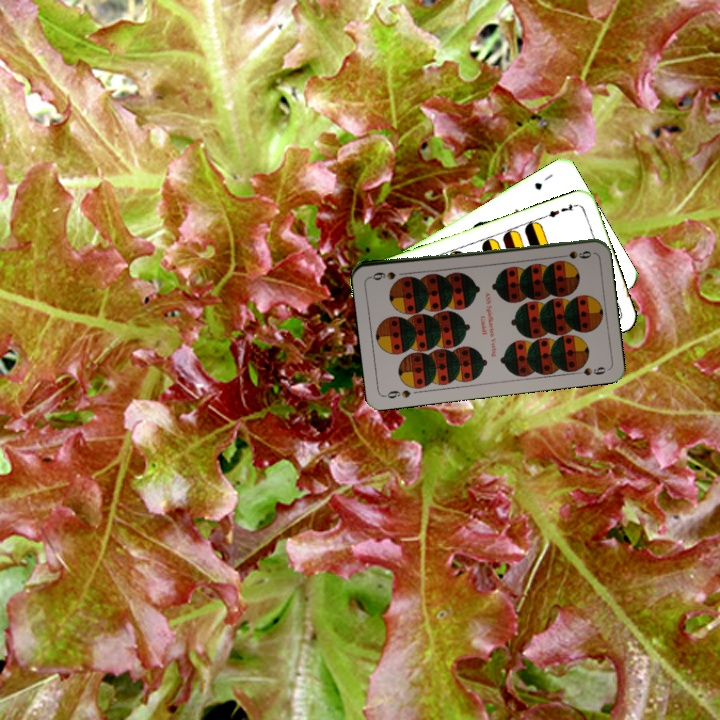E7: (541, 200, 580, 220)
GU: (530, 169, 555, 192)
S9: (554, 247, 594, 261), (381, 386, 413, 401)
